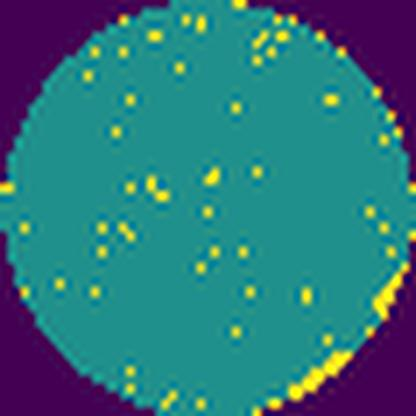Edge-Loc: (284, 342, 357, 407), (371, 253, 408, 325)
